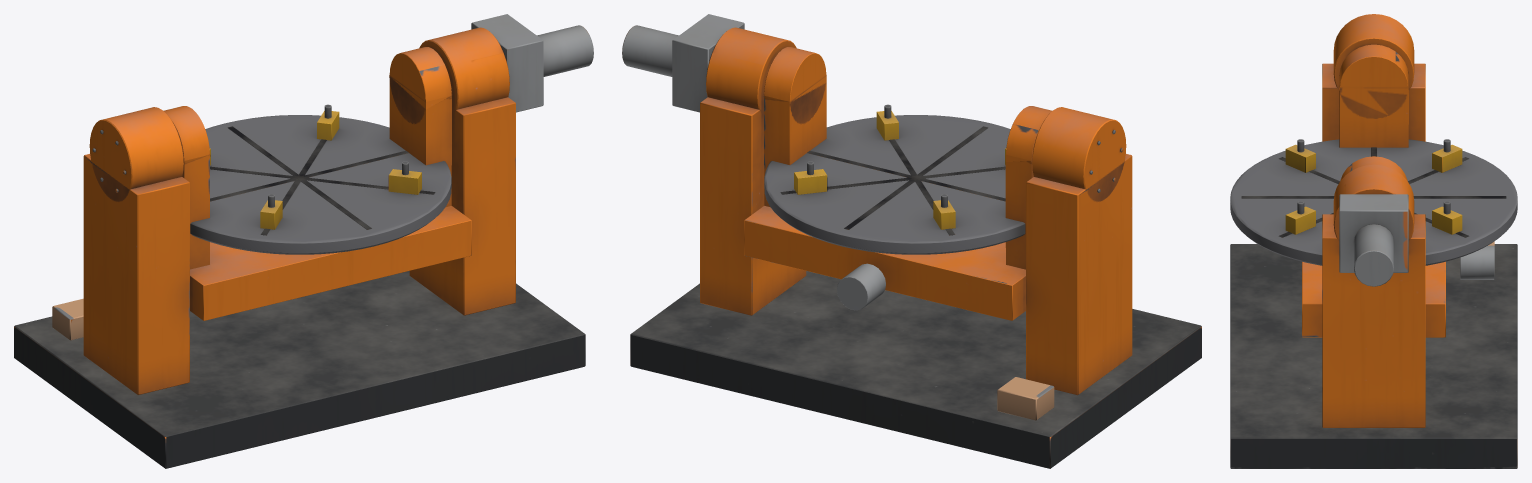
Rendered from WeldPositioner.fbx.
3 renders of one model, left to right at view 1: azimuth 30°, elevation 25°; view 2: azimuth 150°, elevation 25°; view 3: azimuth 270°, elevation 25°, orthographic. The views are drawn at different scales.
Visible parts, largest first — view 1: Body_LOD0, Turntable_LOD0, Tilt_LOD0; view 2: Body_LOD0, Turntable_LOD0, Tilt_LOD0; view 3: Body_LOD0, Turntable_LOD0, Tilt_LOD0.
Boxes of the visible parts, x1,y1,x2,y2 form: Body_LOD0: [14, 14, 593, 468]; Turntable_LOD0: [190, 104, 451, 254]; Tilt_LOD0: [163, 47, 471, 320]; Body_LOD0: [622, 14, 1201, 468]; Turntable_LOD0: [764, 104, 1025, 254]; Tilt_LOD0: [744, 47, 1052, 320]; Body_LOD0: [1230, 14, 1517, 468]; Turntable_LOD0: [1230, 139, 1517, 265]; Tilt_LOD0: [1302, 44, 1494, 337].
Size of what is drawn, in the model's own units: 1.88 by 1.04 by 1.
1 material, 1 textured.
